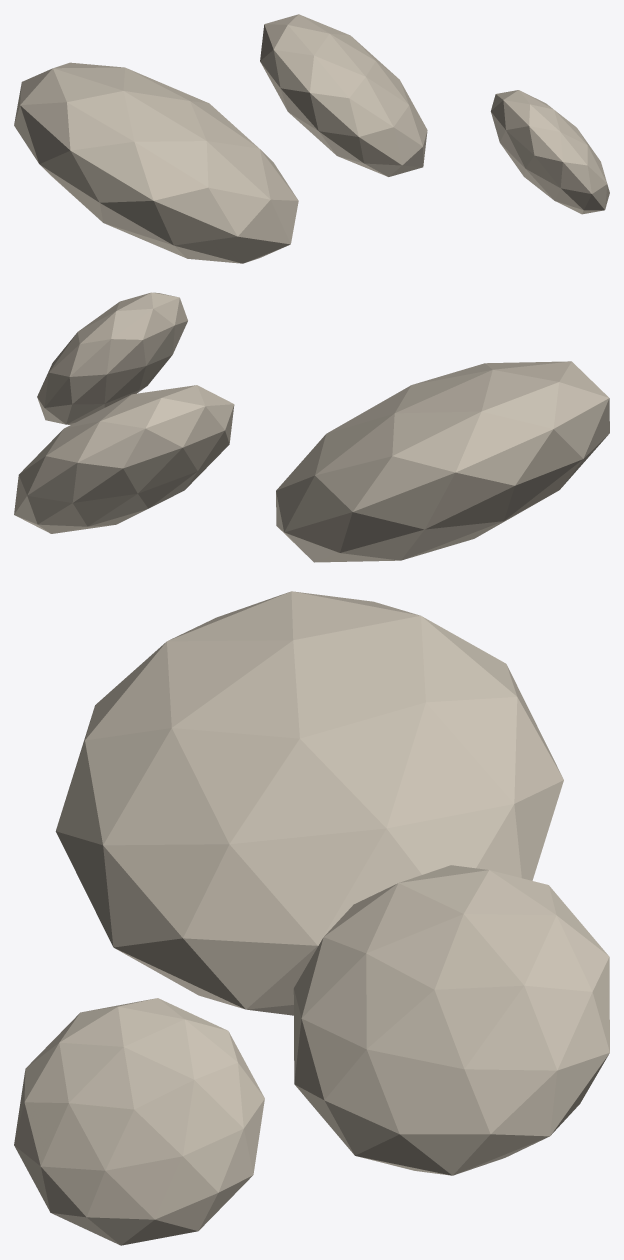
Rendered from Pebble_A.fbx.
3 renders of one model, top to bottom at view 1: azimuth 30°, elevation 25°; view 2: azimuth 150°, elevation 25°; view 3: azimuth 270°, elevation 25°, orthographic. The views are drawn at different scales.
Visible parts, largest first — view 1: Pebble, Pebble.001, Pebble.002; view 2: Pebble, Pebble.001, Pebble.002; view 3: Pebble, Pebble.001, Pebble.002.
Boxes of the visible parts, <box> form: Pebble: <box>14,62,298,263</box>; Pebble.001: <box>260,14,427,176</box>; Pebble.002: <box>490,90,609,214</box>; Pebble: <box>276,361,609,562</box>; Pebble.001: <box>14,385,234,533</box>; Pebble.002: <box>37,292,187,424</box>; Pebble: <box>55,591,563,1015</box>; Pebble.001: <box>293,865,609,1175</box>; Pebble.002: <box>14,998,264,1245</box>.
Size of the model in its own units: 6.58 by 2.26 by 4.2.
